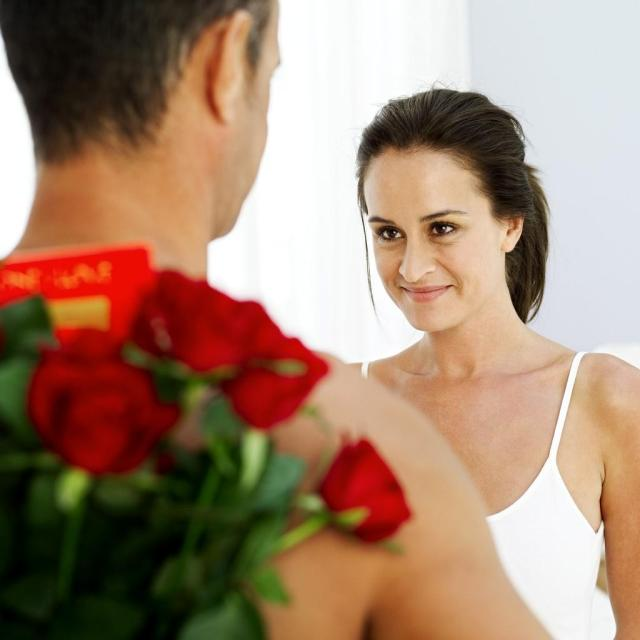nomask: (362, 162, 486, 330)
